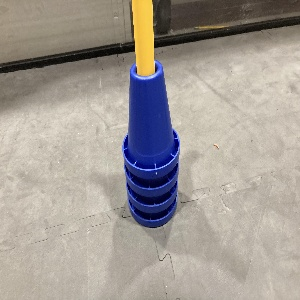Blue_4: (122, 57, 180, 228)
